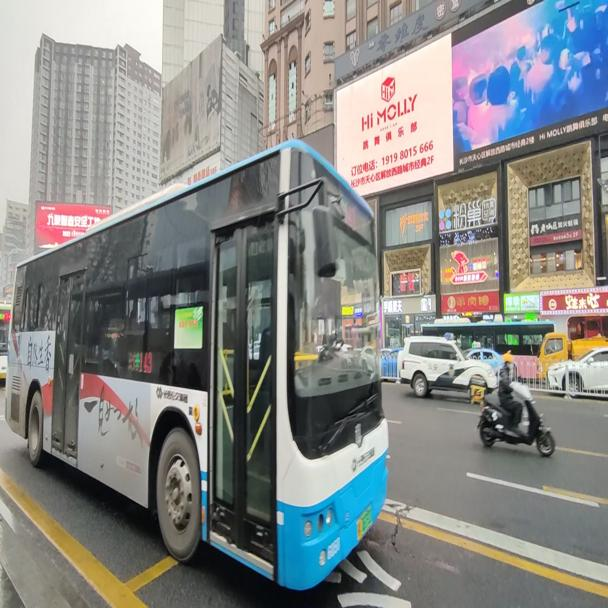bus: (5, 135, 390, 592)
screen: (138, 350, 152, 374)
